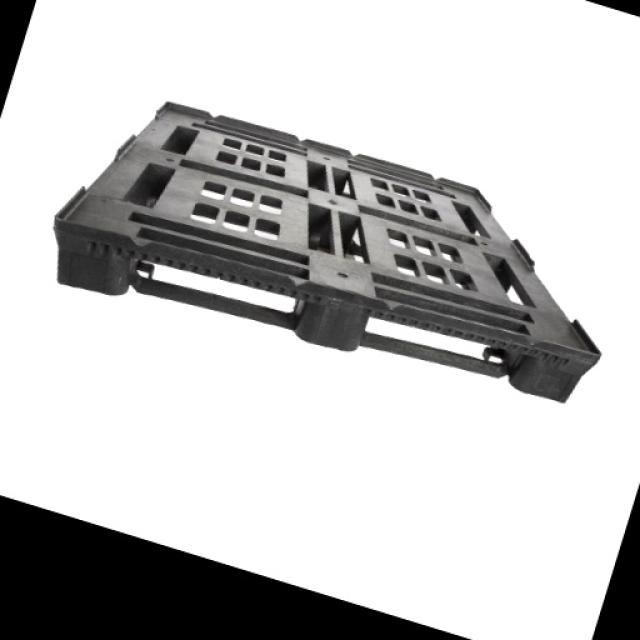non-igps: (41, 90, 613, 414)
